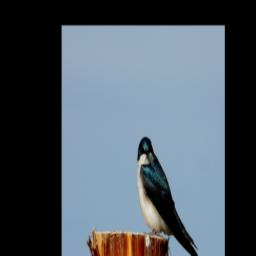Swallow: (137, 135, 200, 256)
